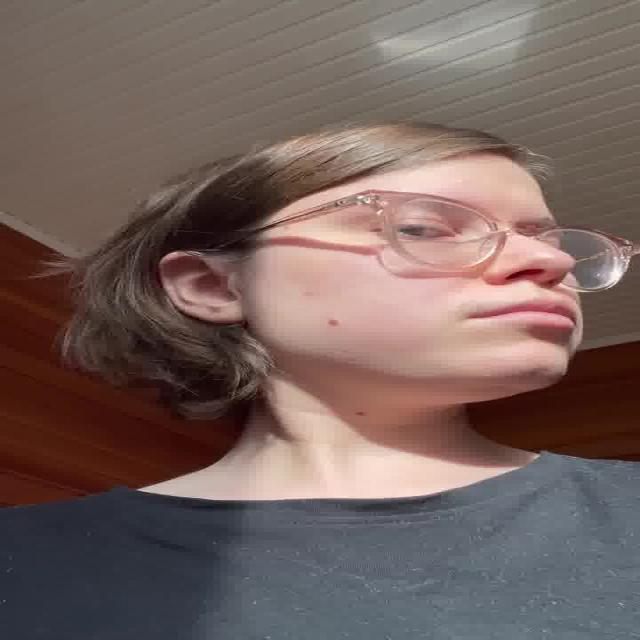earlobe: (158, 250, 246, 324)
